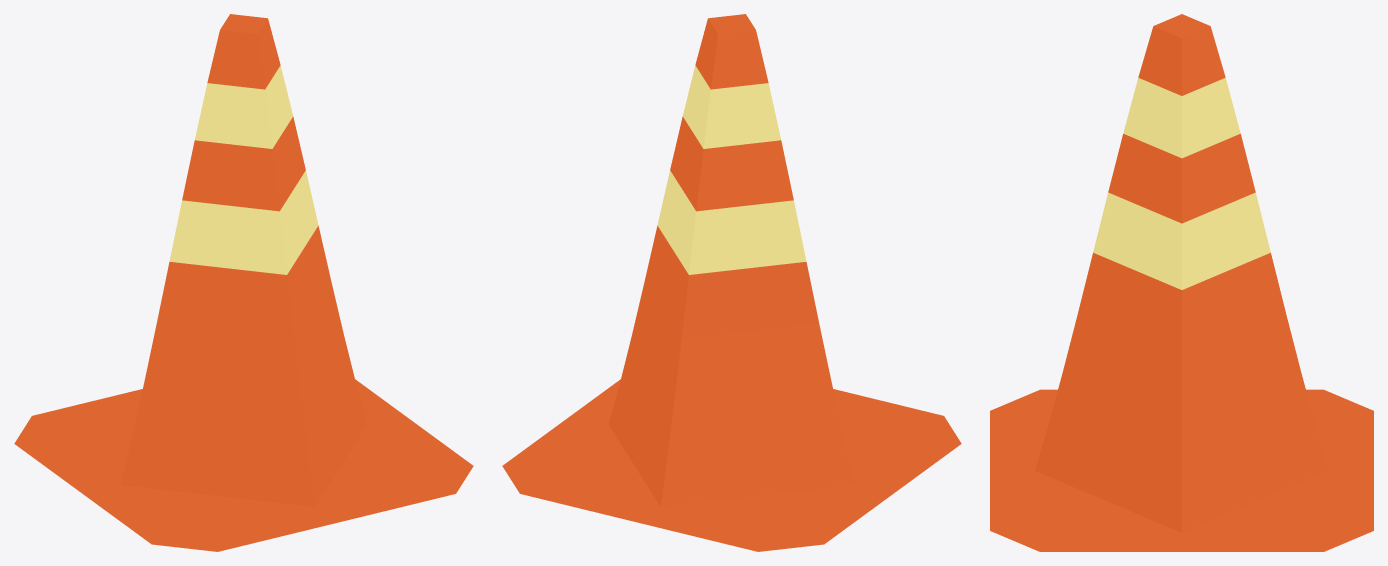
3 views of the same model, side by side, from view 1: azimuth 30°, elevation 25°; view 2: azimuth 150°, elevation 25°; view 3: azimuth 270°, elevation 25° (orthographic). The views are drawn at different scales.
Visible parts, largest first — view 1: Plane.002; view 2: Plane.002; view 3: Plane.002.
Part boxes in pixels (box(x1,y1,x2,y2)): Plane.002: box(14, 14, 473, 551); Plane.002: box(502, 14, 961, 551); Plane.002: box(990, 14, 1373, 551).
Bounding box in the file's own units: 0.3537 × 0.459 × 0.3537.
